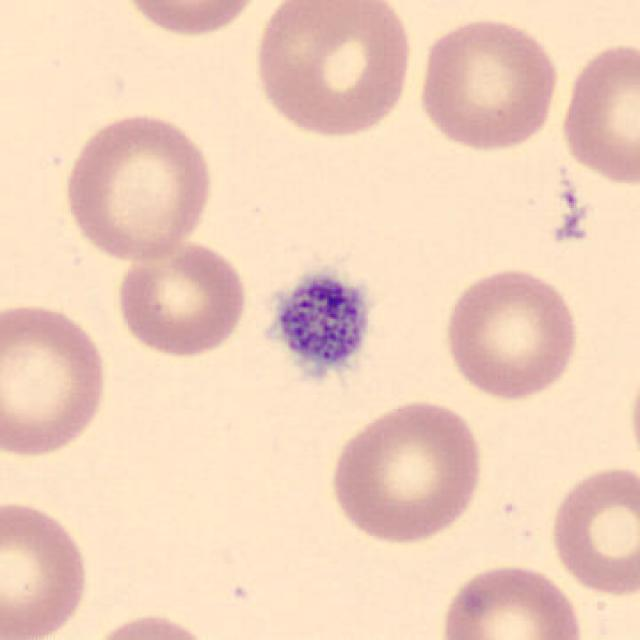Platelets: (260, 264, 375, 382)
RBC: (59, 106, 217, 264), (324, 395, 487, 546), (250, 0, 418, 141), (412, 12, 564, 155), (439, 262, 581, 403), (0, 296, 112, 462), (112, 236, 251, 360), (0, 495, 94, 640), (546, 460, 638, 600), (556, 38, 640, 188), (436, 559, 588, 640), (112, 0, 270, 41), (84, 610, 218, 640), (626, 354, 640, 482)
